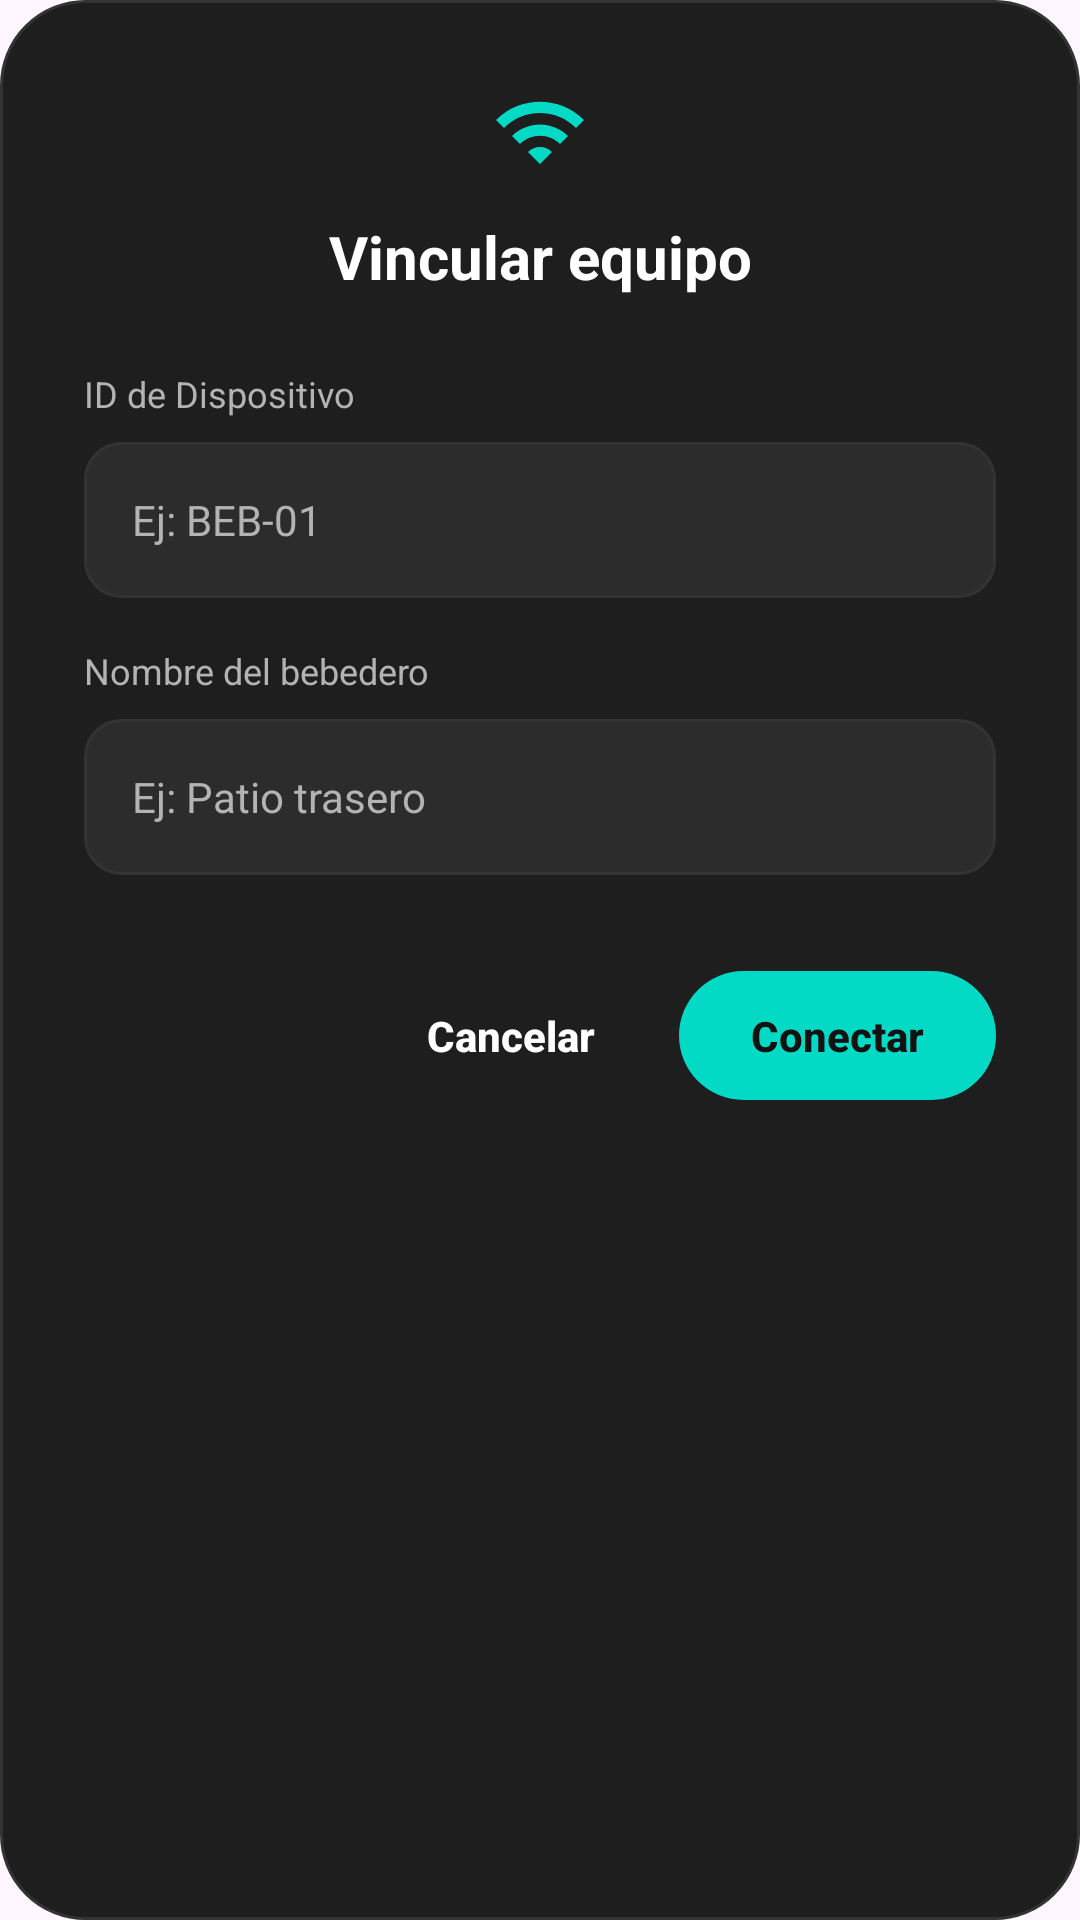

Icons on this 1080 × 1920 Android screen, each with the point to tap as [x,y]:
Conectividad: [540,132]
